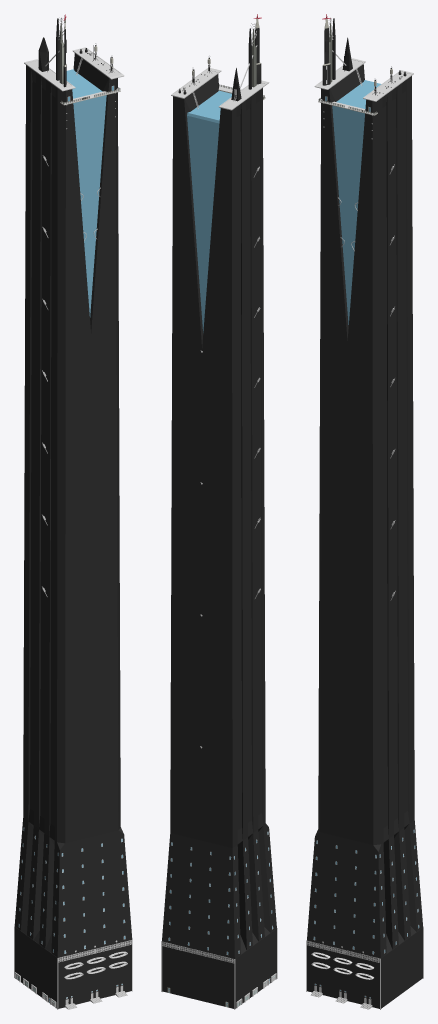
Rendered from skyscraper.glb.
3 views of the same model, side by side, from view 1: azimuth 30°, elevation 25°; view 2: azimuth 150°, elevation 25°; view 3: azimuth 330°, elevation 25° (orthographic). The views are drawn at different scales.
Visible parts, largest first — view 1: Object_28, Object_14, Object_6, Object_25, Object_20, Object_30, Object_7; view 2: Object_28, Object_14, Object_6, Object_20, Object_25, Object_30, Object_7; view 3: Object_28, Object_14, Object_6, Object_25, Object_20, Object_30, Object_7.
Part boxes in pixels (x1,y1,x2,y2): Object_28: (14, 37, 132, 957); Object_14: (14, 927, 131, 1008); Object_6: (66, 69, 106, 317); Object_25: (14, 926, 132, 1009); Object_20: (24, 47, 124, 952); Object_30: (47, 18, 68, 1002); Object_7: (18, 828, 125, 953); Object_28: (162, 68, 276, 958); Object_14: (162, 928, 276, 1008); Object_6: (187, 90, 231, 332); Object_20: (171, 68, 269, 110); Object_25: (161, 928, 277, 1009); Object_30: (248, 23, 261, 89); Object_7: (168, 832, 272, 954); Object_28: (307, 37, 423, 958); Object_14: (307, 927, 423, 1008); Object_6: (332, 80, 381, 324); Object_25: (306, 927, 423, 1009); Object_20: (314, 58, 413, 952); Object_30: (322, 18, 344, 100); Object_7: (313, 830, 419, 954).
Size of the model in its own units: 0.145 by 1.8 by 0.155.
